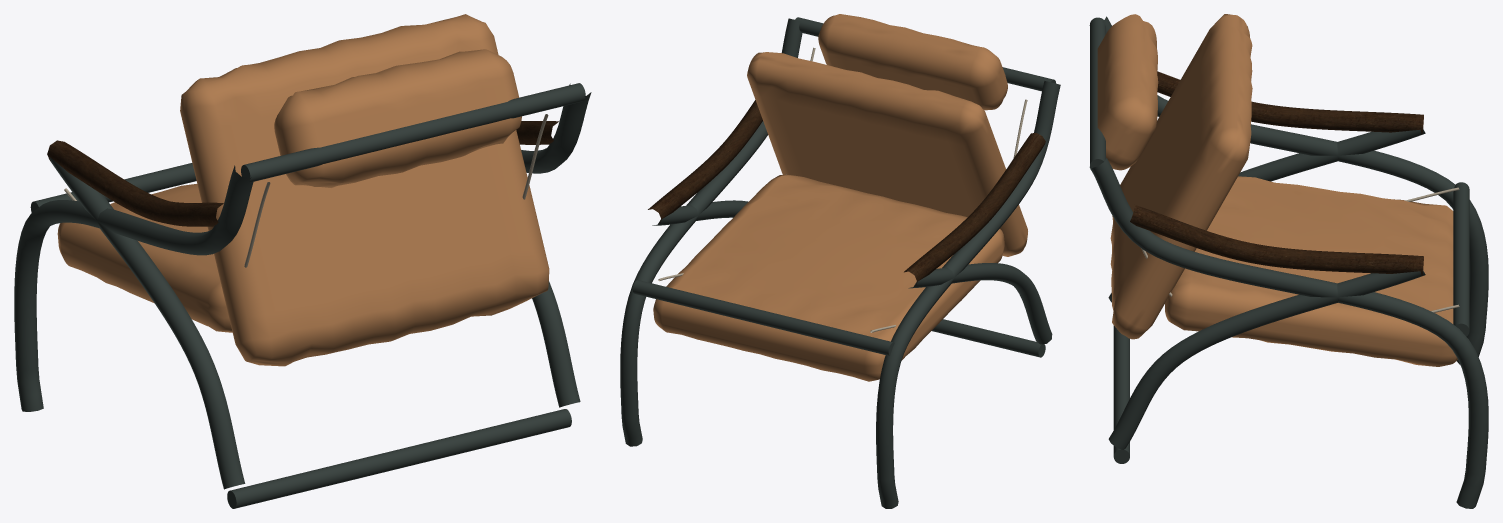
File: lounge-sling-chair.glb
The picture shows the model from 3 angles, left to right: view 1: azimuth 30°, elevation 25°; view 2: azimuth 150°, elevation 25°; view 3: azimuth 270°, elevation 25°; orthographic projection. The views are drawn at different scales.
Visible parts, largest first — view 1: leather_surfaces, steel_surfaces, walnut_surfaces, welt_surfaces; view 2: leather_surfaces, steel_surfaces, walnut_surfaces; view 3: leather_surfaces, steel_surfaces, walnut_surfaces.
Boxes of the visible parts, x1,y1,x2,y2 form: leather_surfaces: (57,14,549,366); steel_surfaces: (14,83,591,508); walnut_surfaces: (47,121,558,226); welt_surfaces: (64,114,548,267); leather_surfaces: (653,14,1027,381); steel_surfaces: (620,17,1060,508); walnut_surfaces: (648,100,1045,285); leather_surfaces: (1097,14,1457,366); steel_surfaces: (1089,16,1488,508); walnut_surfaces: (1130,71,1423,275).
Size of the model in its own units: 0.744 by 0.8818 by 0.8356.
4 materials, 1 textured.
